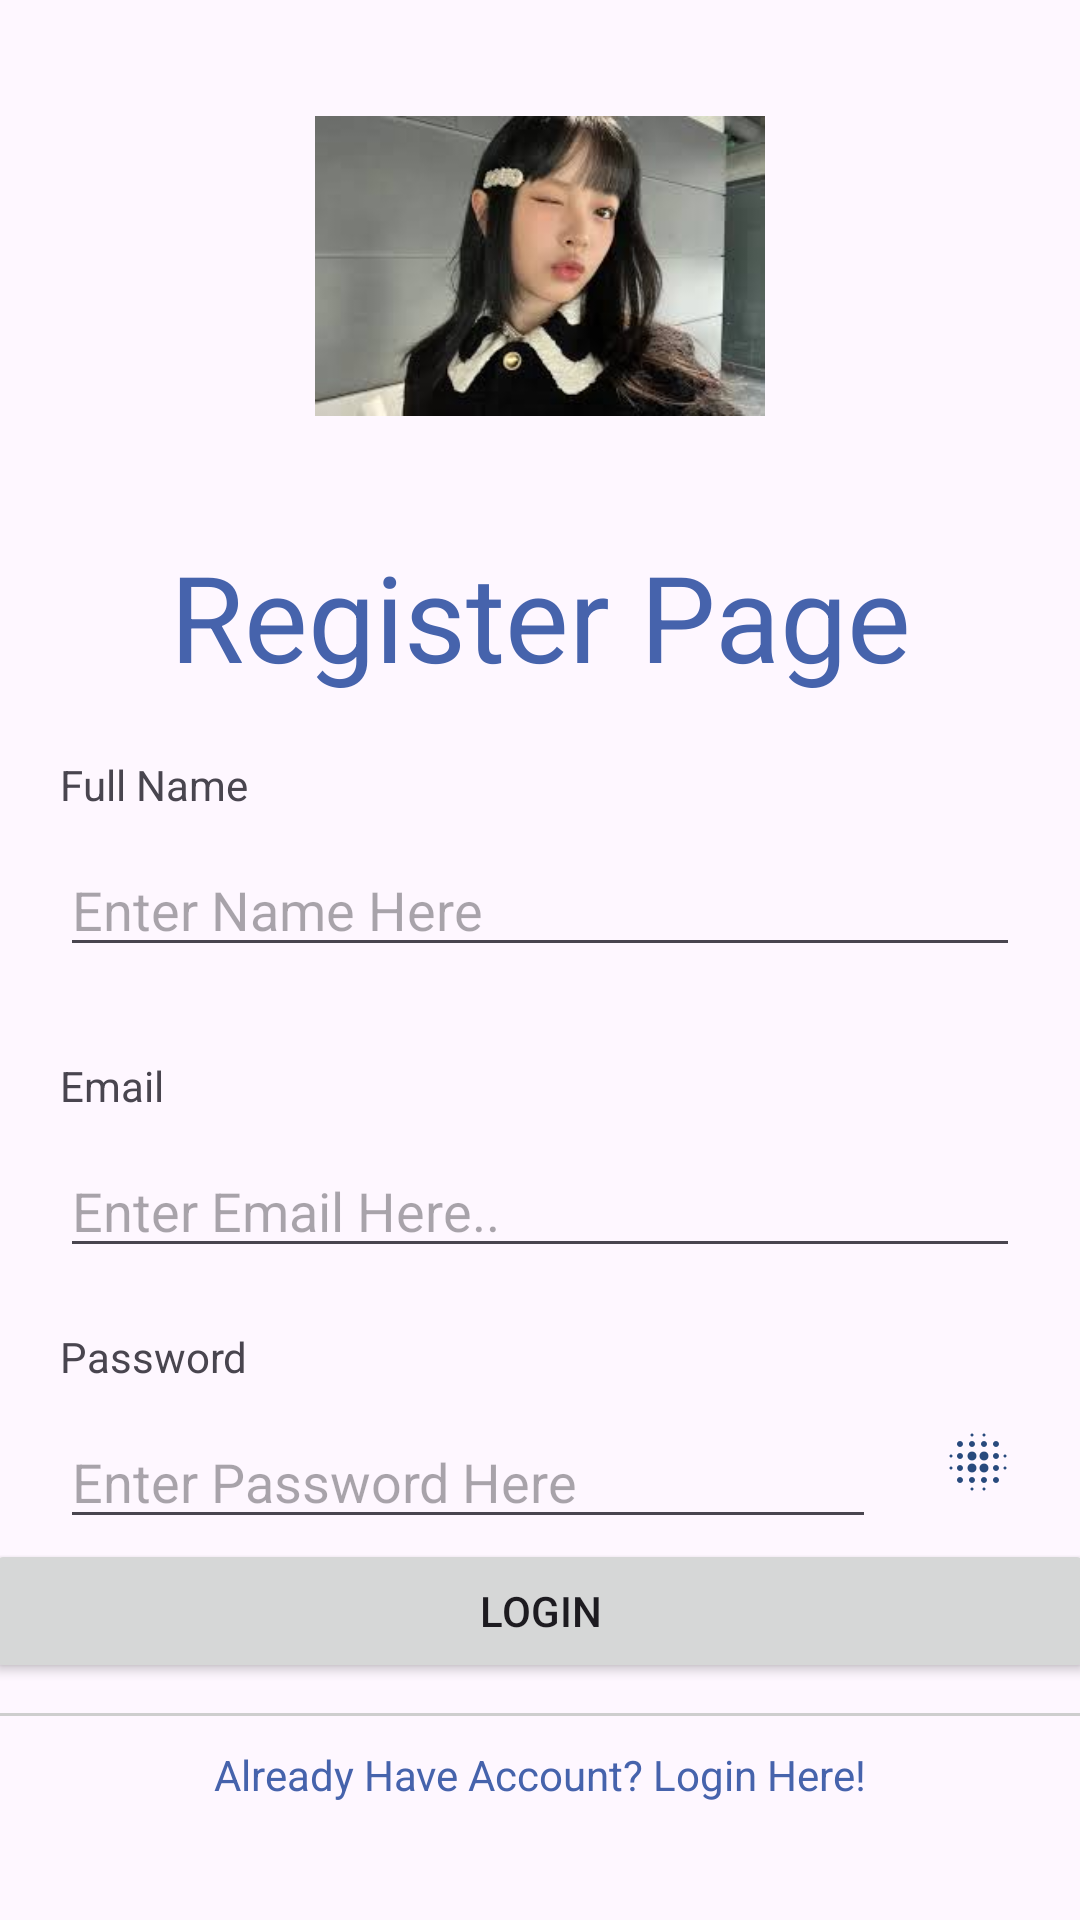

Screen size 1080 x 1920. Icon name, then its center in pixels as (x,y):
blur on: (978,1462)
